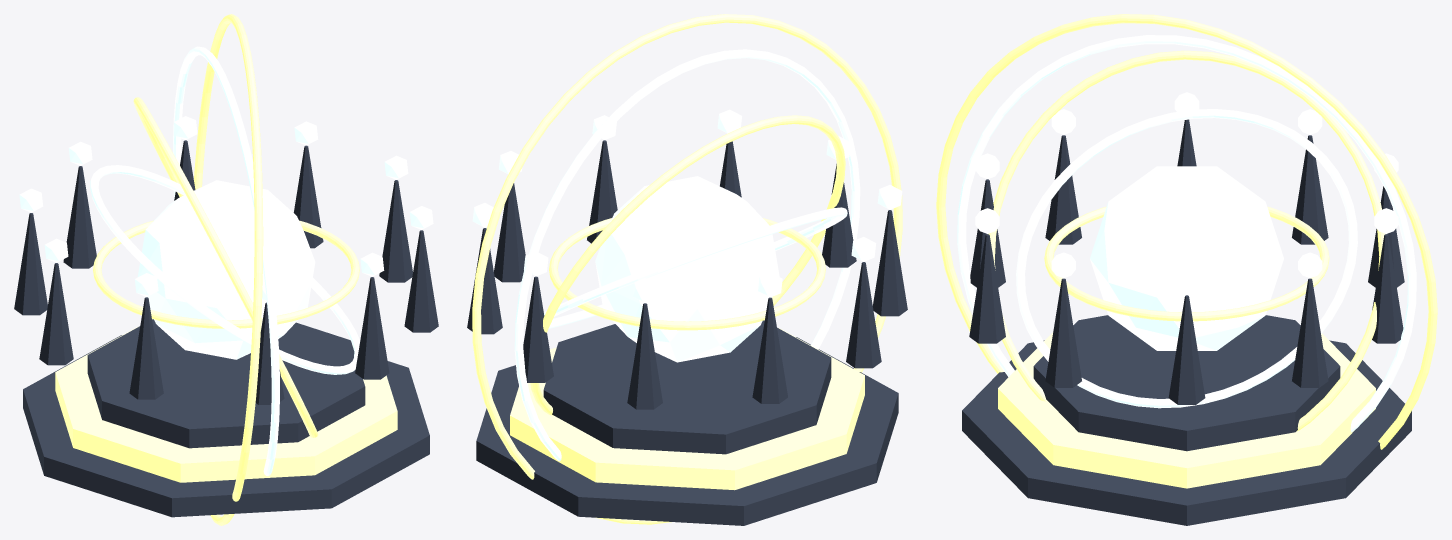
The model's file is gpu-blender-v39.glb.
3 renders of one model, left to right at view 1: azimuth 30°, elevation 25°; view 2: azimuth 150°, elevation 25°; view 3: azimuth 270°, elevation 25°, orthographic. The views are drawn at different scales.
Parts seen in each view (by area): view 1: Cylinder.002, Cylinder, SovereignCore_nexus-3d-scene-studio, Cylinder.001, Torus.004, Torus.003, Torus.001, Torus, Torus.002, Cone.004, Cone.008, Cone.005 (+6 smaller); view 2: Cylinder.002, SovereignCore_nexus-3d-scene-studio, Cylinder, Cylinder.001, Torus.004, Torus.003, Torus.002, Torus, Torus.001, Cone.005, Cone.003, Cone.006 (+7 smaller); view 3: SovereignCore_nexus-3d-scene-studio, Cylinder.002, Cylinder, Cylinder.001, Torus.004, Torus.003, Torus.001, Torus.002, Torus, Cone, Cone.008, Cone.001 (+7 smaller).
Boxes of the visible parts, x1,y1,x2,y2 form: Cylinder.002: (87, 319, 365, 448); Cylinder: (23, 335, 429, 517); SovereignCore_nexus-3d-scene-studio: (137, 180, 315, 359); Cylinder.001: (55, 326, 397, 482); Torus.004: (194, 14, 263, 525); Torus.003: (173, 46, 279, 475); Torus.001: (90, 165, 360, 374); Torus: (93, 220, 359, 328); Torus.002: (133, 97, 318, 437); Cone.004: (14, 213, 47, 315); Cone.008: (355, 277, 389, 379); Cone.005: (39, 263, 73, 365); Cylinder.002: (543, 320, 831, 454); SovereignCore_nexus-3d-scene-studio: (595, 176, 779, 362); Cylinder: (476, 337, 898, 525); Cylinder.001: (510, 328, 864, 490); Torus.004: (472, 14, 902, 524); Torus.003: (514, 49, 860, 461); Torus.002: (530, 115, 845, 415); Torus: (549, 218, 825, 330); Torus.001: (544, 207, 847, 328); Cone.005: (846, 262, 881, 368); Cone.003: (627, 303, 662, 409); Cone.006: (873, 210, 907, 316); SovereignCore_nexus-3d-scene-studio: (1090, 166, 1283, 350); Cylinder.002: (1033, 315, 1340, 451); Cylinder: (962, 340, 1411, 525); Cylinder.001: (998, 332, 1375, 488); Torus.004: (936, 14, 1437, 449); Torus.003: (957, 35, 1416, 432); Torus.001: (1016, 109, 1357, 408); Torus.002: (988, 50, 1385, 431); Torus: (1044, 206, 1329, 321); Cone: (1168, 295, 1205, 404); Cone.008: (969, 234, 1005, 343); Cone.001: (1292, 278, 1328, 387).
Bounding box in the file's own units: 4.41 × 5.33 × 4.9.
